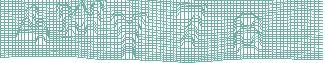4: (14, 3, 50, 48)
7: (173, 3, 206, 50)
8: (231, 11, 265, 55)
W: (55, 1, 104, 39)
Y: (109, 11, 149, 63)
